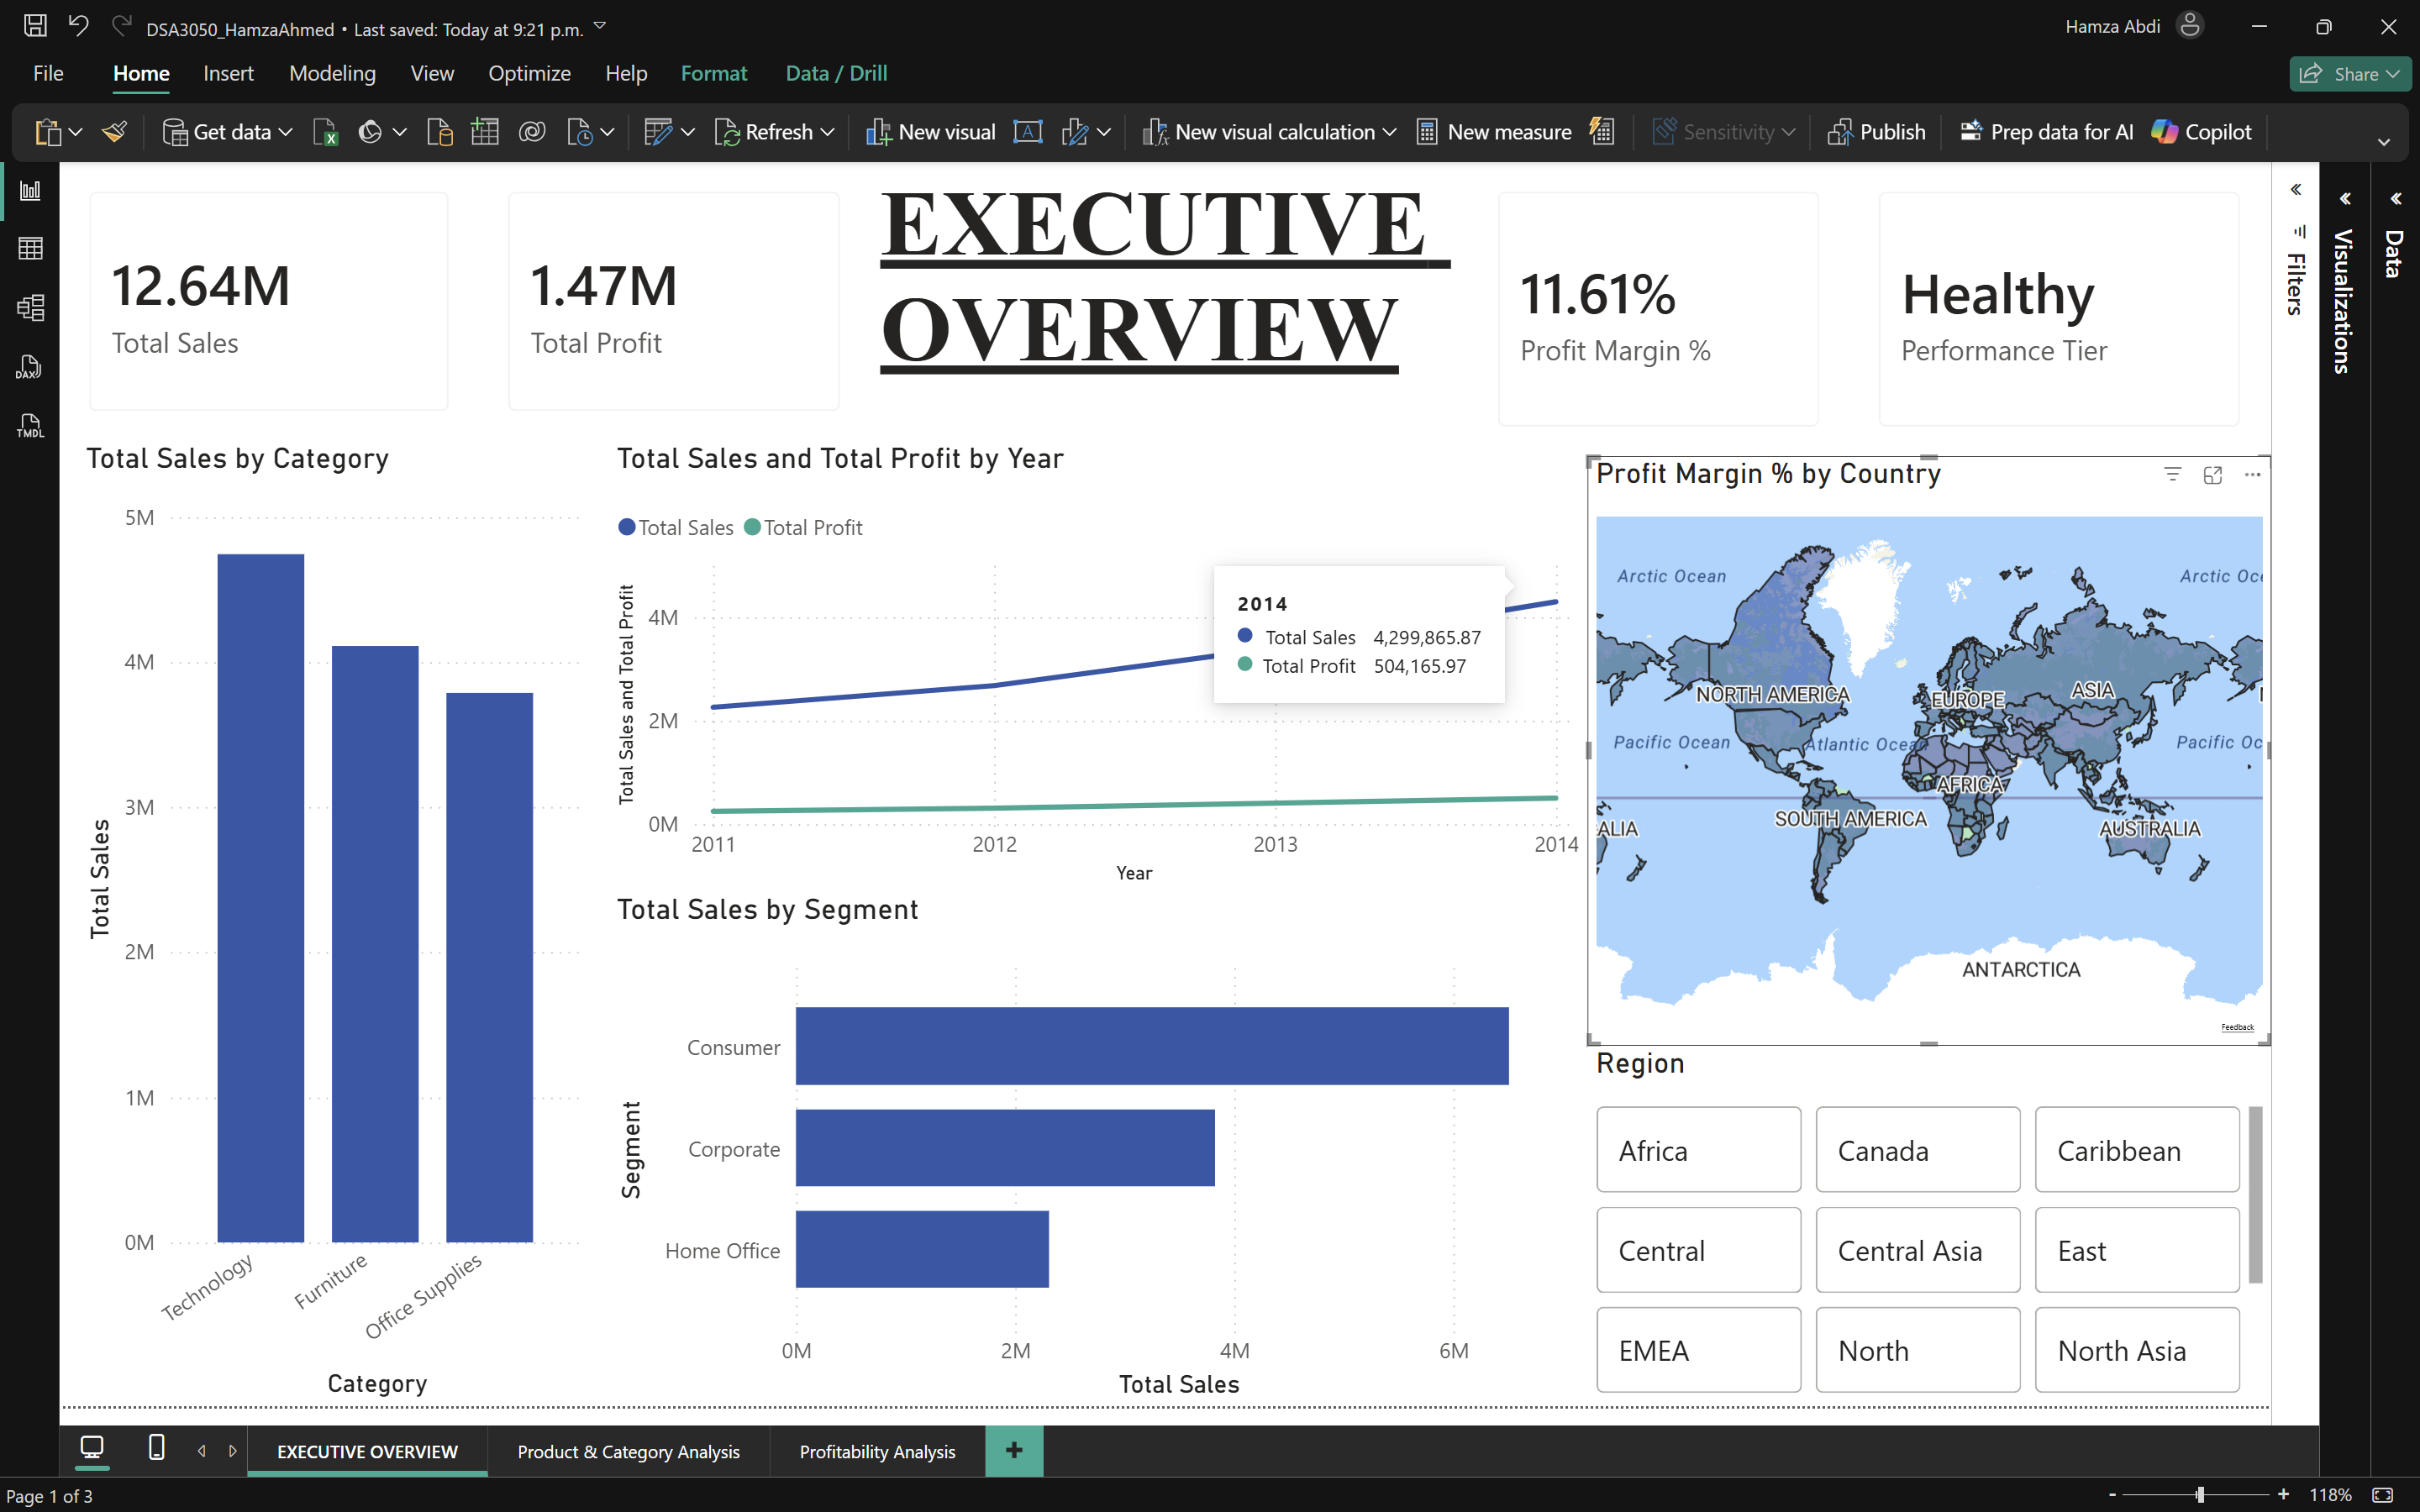

The dashboard page shown, as its layout file describes it:
{"tool":"powerbi","page":{"name":"EXECUTIVE OVERVIEW","canvas":[1280,720],"ordinal":0},"visuals":[{"type":"cardVisual","fields":{"Data":["FactOrders.Total Sales"]},"box":[0,0,242.8,161.8],"z":0},{"type":"cardVisual","fields":{"Data":["FactOrders.Total Profit"]},"box":[242.8,0,226.8,161.8],"z":1000},{"type":"cardVisual","fields":{"Data":["FactOrders.Profit Margin %"]},"box":[815.3,0,220.7,170.4],"z":2000},{"type":"cardVisual","fields":{"Data":["FactOrders.Performance Tier"]},"box":[1036,0,244,170.4],"z":3000},{"type":"lineChart","fields":{"Category":["DimDate.Year"],"Y":["FactOrders.Total Sales","FactOrders.Total Profit"]},"box":[317.5,161.8,566.4,261.1],"z":4000},{"type":"azureMap","fields":{"Category":["DimLocation.Country"]},"box":[884,170.4,396,340.8],"z":5000},{"type":"clusteredColumnChart","fields":{"Category":["DimProduct.Category"],"Y":["FactOrders.Total Sales"]},"box":[9.8,161.8,297.9,557.9],"z":6000},{"type":"clusteredBarChart","fields":{"Category":["DimCustomer.Segment"],"Y":["FactOrders.Total Sales"]},"box":[317.5,423,566.4,296.7],"z":7000},{"type":"advancedSlicerVisual","fields":{"Values":["DimLocation.Region"]},"box":[884,511.3,396,208.4],"z":7001},{"type":"textbox","box":[470,0,345,162],"z":7002}]}

Visuals, with their boxes on the page's 1280x720 design canvas (x1, y1, x2, y2). These are canvas units, not pixel positions in the 2420x1512 screenshot, which may show the page scaled, cropped or inside an application window:
cardVisual - FactOrders.Total Sales: 0 0 243 162
cardVisual - FactOrders.Total Profit: 243 0 470 162
cardVisual - FactOrders.Profit Margin %: 815 0 1036 170
cardVisual - FactOrders.Performance Tier: 1036 0 1280 170
lineChart - DimDate.Year x FactOrders.Total Sales: 318 162 884 423
azureMap - DimLocation.Country: 884 170 1280 511
clusteredColumnChart - DimProduct.Category x FactOrders.Total Sales: 10 162 308 720
clusteredBarChart - DimCustomer.Segment x FactOrders.Total Sales: 318 423 884 720
advancedSlicerVisual - DimLocation.Region: 884 511 1280 720
textbox: 470 0 815 162
